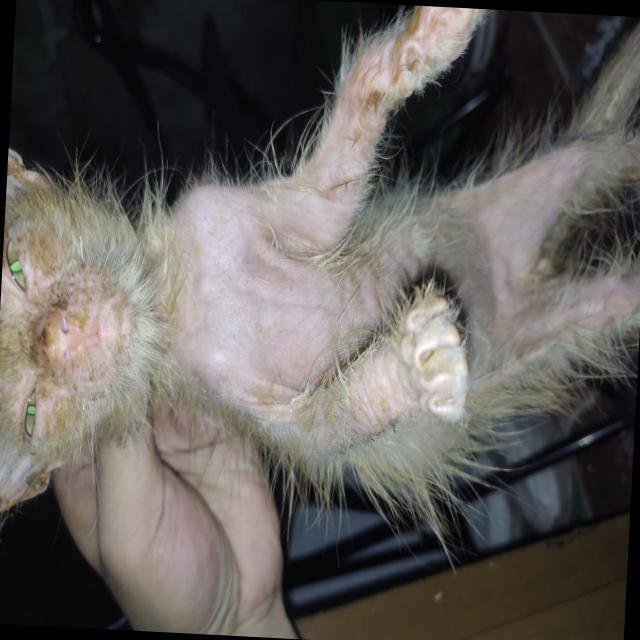Mange: (195, 254, 297, 360), (296, 264, 340, 356), (193, 200, 230, 248), (215, 362, 250, 402), (70, 268, 93, 296)
